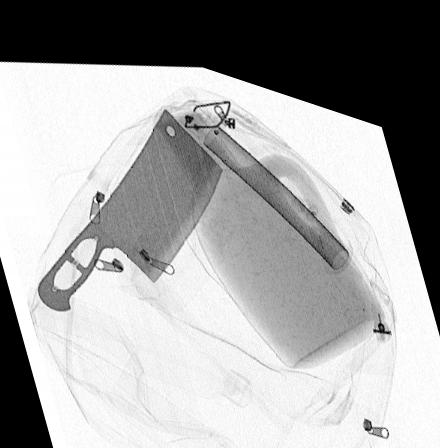Knife: (36, 98, 223, 308)
